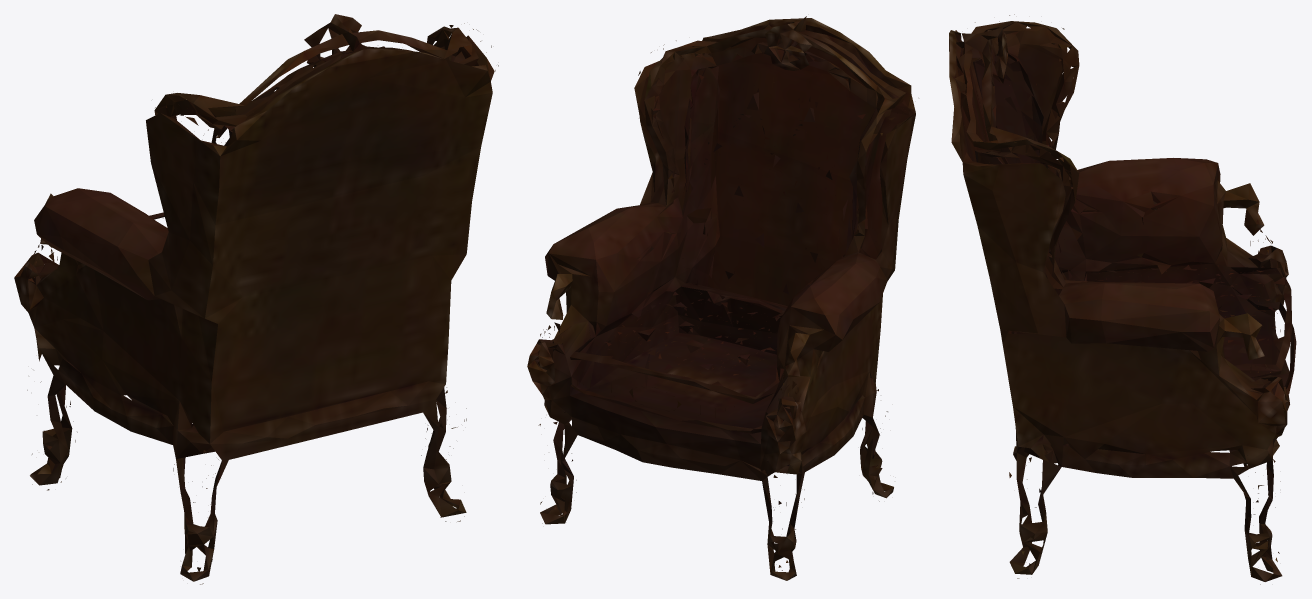
The picture shows the model from 3 angles, left to right: view 1: azimuth 30°, elevation 25°; view 2: azimuth 150°, elevation 25°; view 3: azimuth 270°, elevation 25°; orthographic projection. The views are drawn at different scales.
Visible parts, largest first — view 1: geometry_0.001; view 2: geometry_0.001; view 3: geometry_0.001.
Boxes of the visible parts, left/top/right/bottom form: geometry_0.001: left=14, top=14, right=498, bottom=584; geometry_0.001: left=527, top=16, right=915, bottom=580; geometry_0.001: left=949, top=14, right=1296, bottom=584.
Bounding box in the file's own units: 0.6716 × 0.95 × 0.6129.
1 material, 1 textured.
